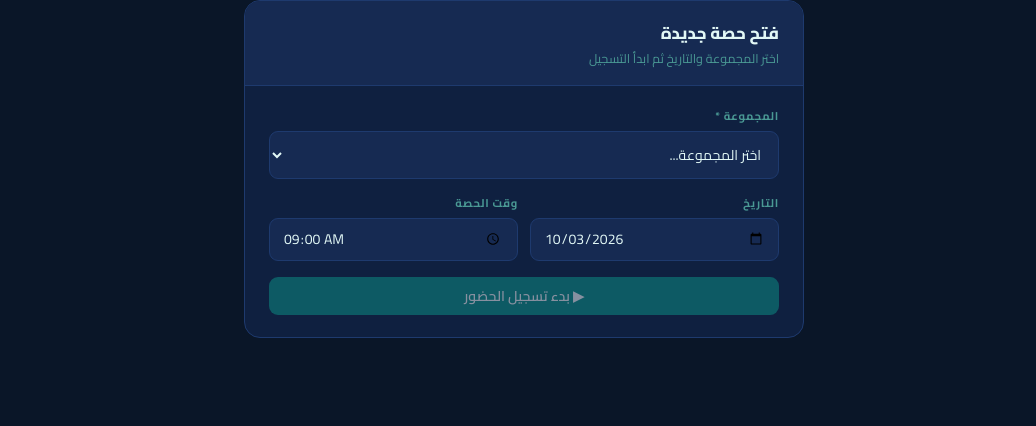
Test: SessionMarking — eligibility-based roster (Group Closure) › Case H: a student with no active enrollment is excluded even when the server returns an empty roster
The image size is (1036, 426).
Select "Group A (1 طالب)" in the dropdown at (524, 155), box [269,131,779,179]
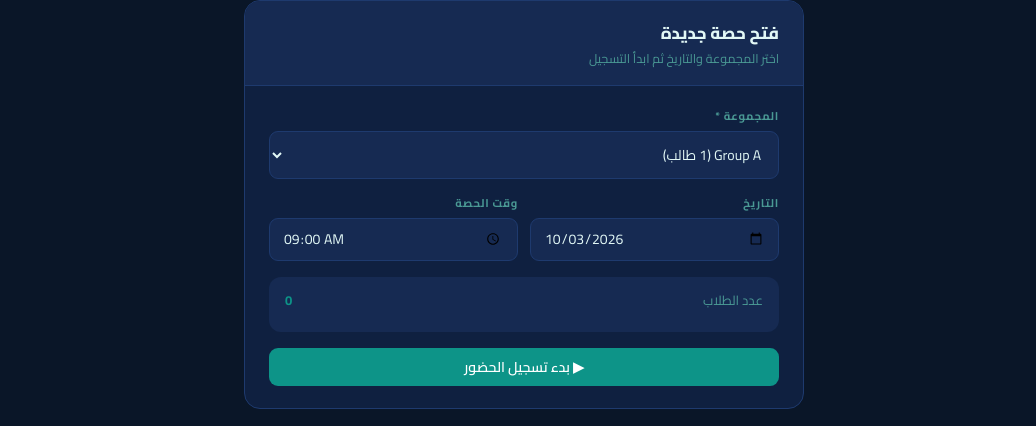
Click the button "▶ بدء تسجيل الحضور" at (524, 367), box [269,348,779,386]
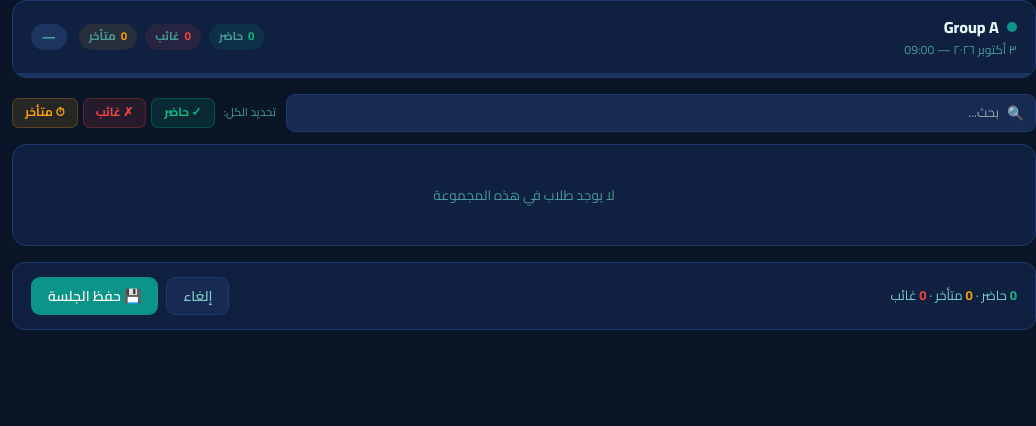
Result: the text "لا يوجد طلاب في هذه المجموعة" is shown at [433,182,615,208]
